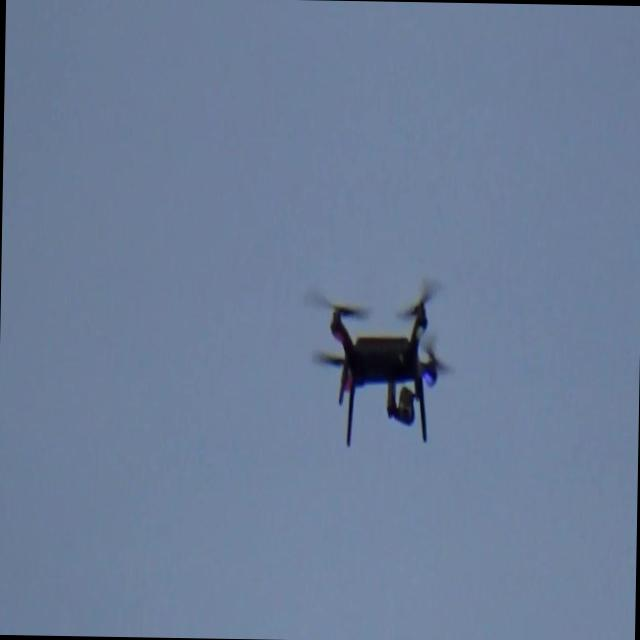drone: (305, 272, 456, 449)
